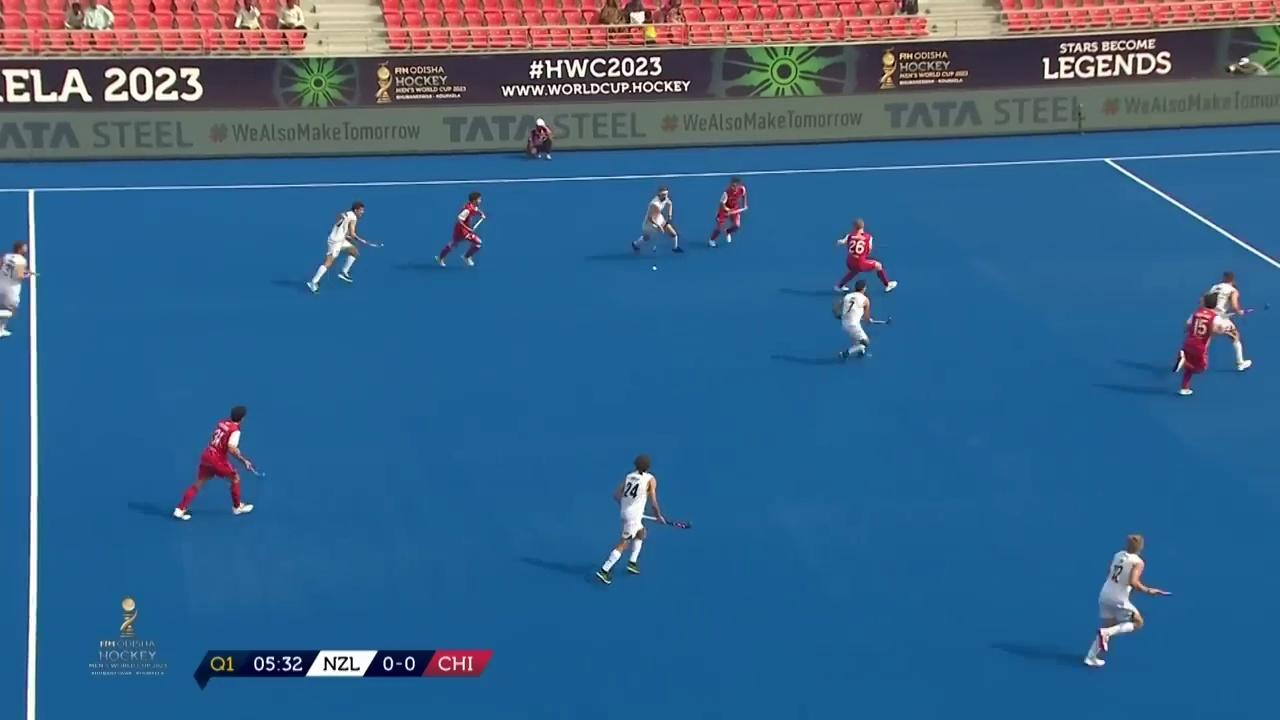ball: (646, 258, 666, 278)
